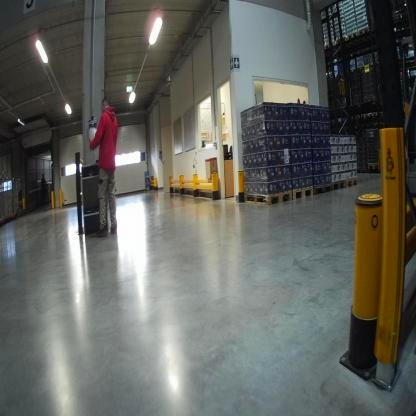pallets: (242, 175, 358, 212)
